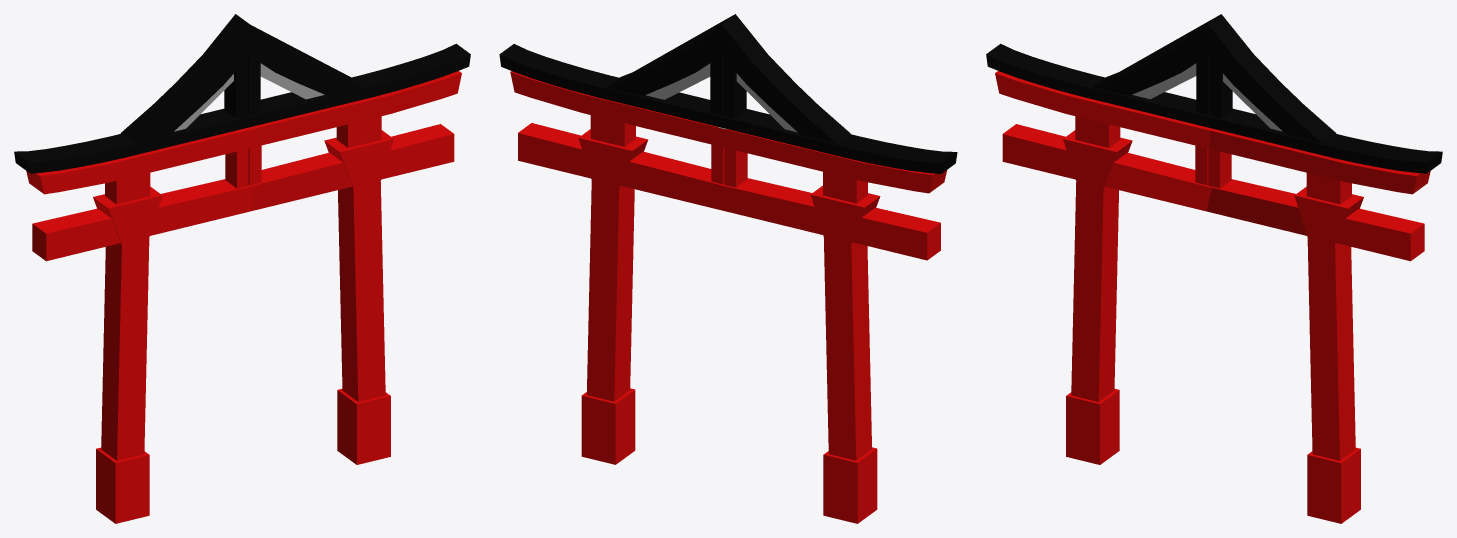
Rendered from Entrada Chinesa.fbx.
The picture shows the model from 3 angles, left to right: view 1: azimuth 30°, elevation 25°; view 2: azimuth 150°, elevation 25°; view 3: azimuth 330°, elevation 25°; orthographic projection.
Parts seen in each view (by area): view 1: polySurface8; view 2: polySurface8; view 3: polySurface8.
Part boxes in pixels (box(x1,y1,x2,y2)): polySurface8: box(14, 14, 470, 523); polySurface8: box(499, 14, 957, 523); polySurface8: box(986, 14, 1442, 523).
Size of the model in its own units: 22.24 by 22.27 by 1.71.
